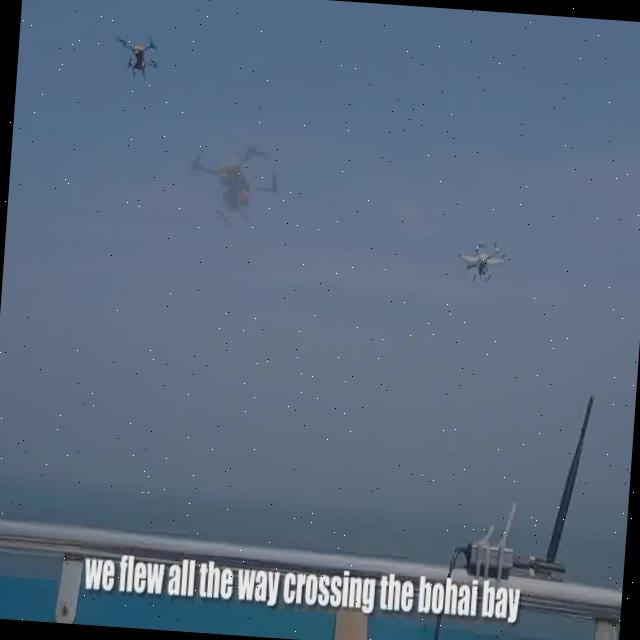drone: (452, 230, 508, 288), (111, 30, 162, 80)
